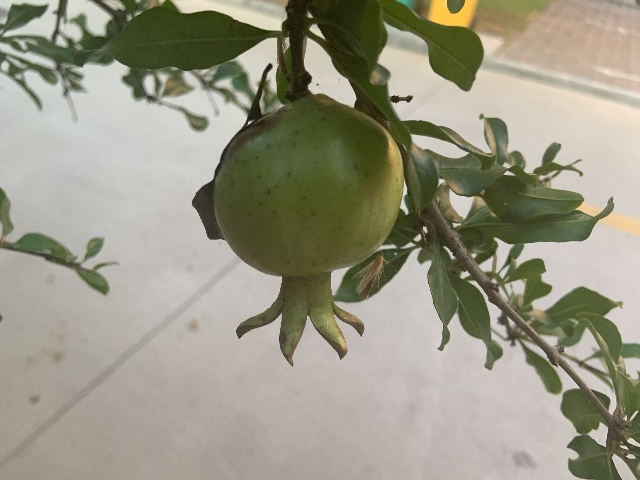mid-growth: (213, 93, 403, 367)
